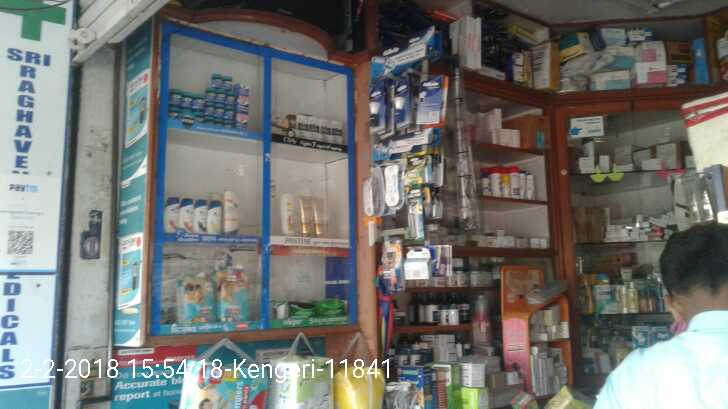beauty: (221, 186, 245, 239), (275, 189, 296, 243), (310, 192, 332, 232), (295, 192, 313, 240), (387, 84, 407, 123), (367, 94, 386, 131), (306, 117, 322, 148), (292, 113, 308, 143), (193, 199, 208, 231), (165, 198, 178, 233), (179, 202, 194, 231), (319, 121, 332, 140), (334, 118, 343, 145)
pharmacy: (216, 267, 253, 321), (178, 275, 216, 323), (287, 299, 348, 321), (235, 83, 253, 129), (191, 90, 204, 115), (210, 71, 224, 90), (201, 85, 215, 103), (222, 70, 233, 92), (181, 88, 191, 110), (170, 89, 183, 105), (225, 105, 235, 123), (213, 104, 224, 118), (215, 89, 224, 104), (227, 89, 234, 106), (204, 105, 213, 115)
